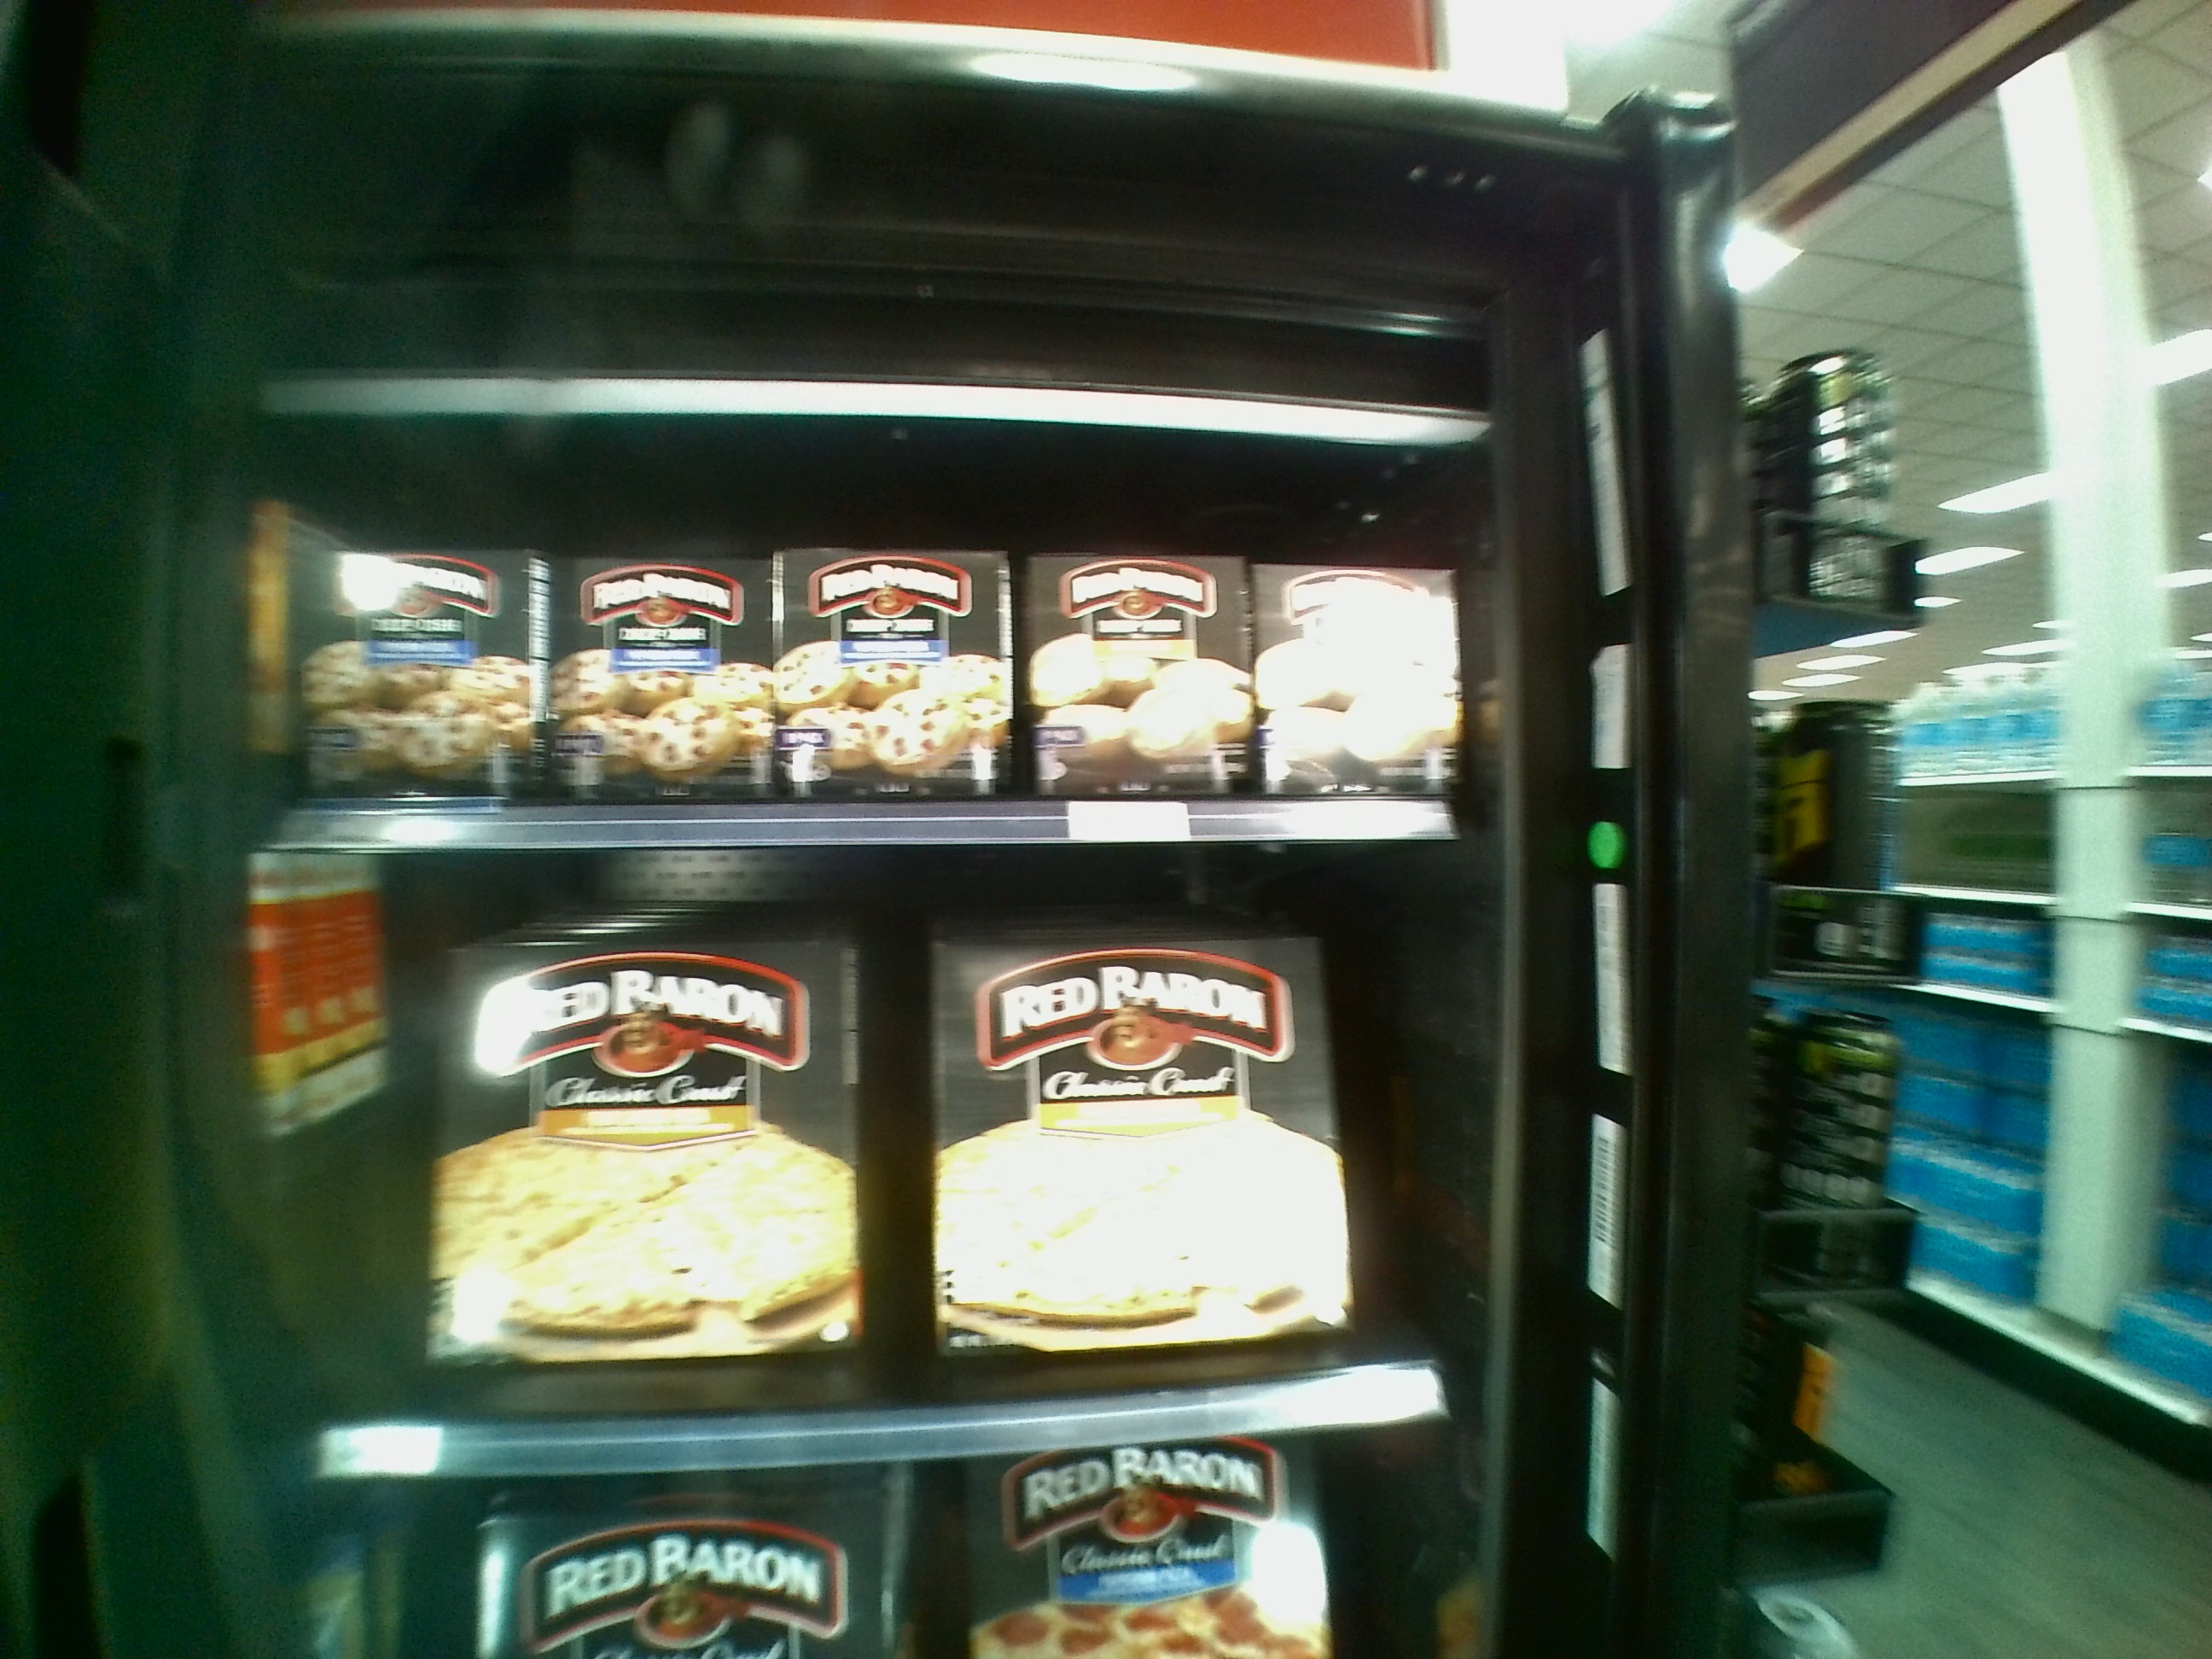shelf: (270, 843, 1467, 1431), (263, 411, 1479, 840)
